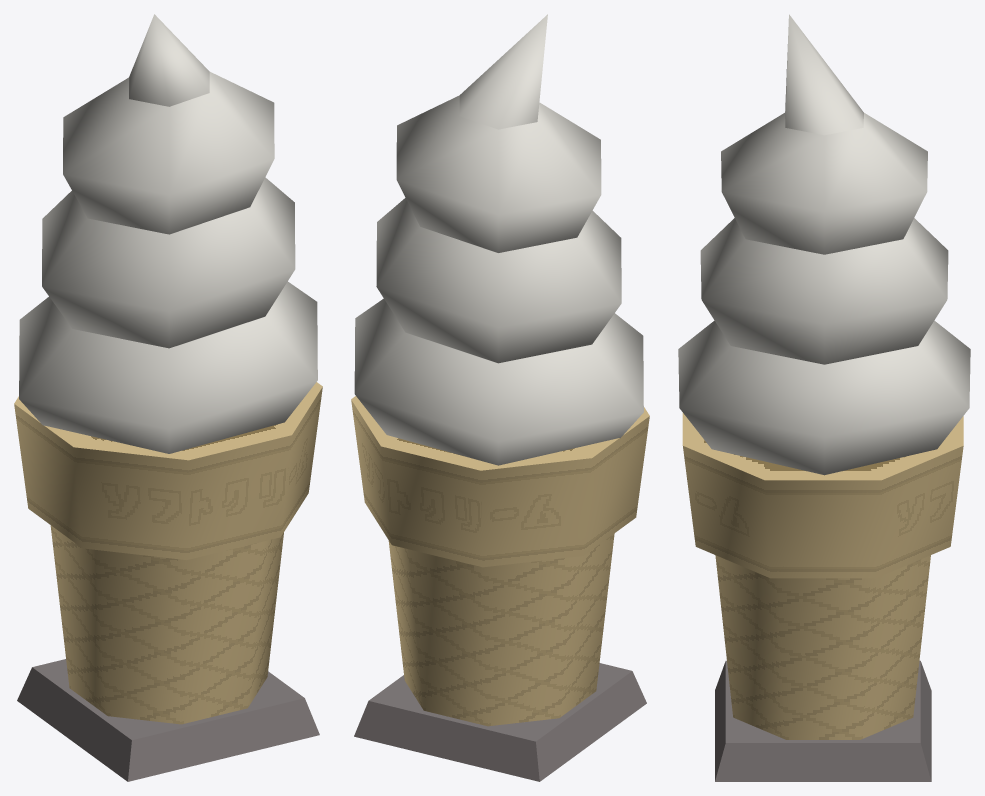
Rendered from 027a_Vanilla_Cone.glb.
3 views of the same model, side by side, from view 1: azimuth 30°, elevation 25°; view 2: azimuth 150°, elevation 25°; view 3: azimuth 270°, elevation 25° (orthographic). The views are drawn at different scales.
Visible parts, largest first — view 1: part_0; view 2: part_0; view 3: part_0.
Boxes of the visible parts, x1,y1,x2,y2 form: part_0: (14,14,322,781); part_0: (351,14,649,781); part_0: (678,14,970,781).
Bounding box in the file's own units: 0.4424 × 1.03 × 0.3846.
Materials: 1 (1 with a texture image).
